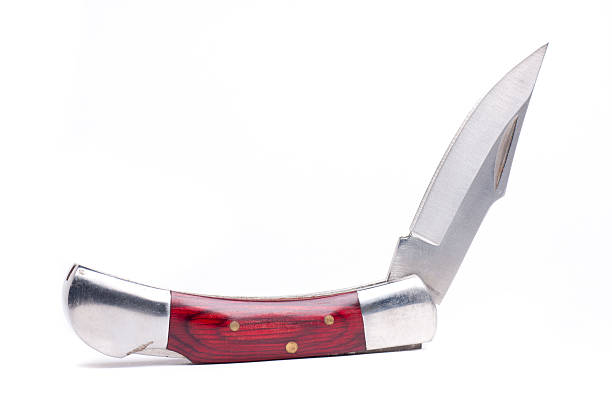knife: (385, 41, 550, 305)
